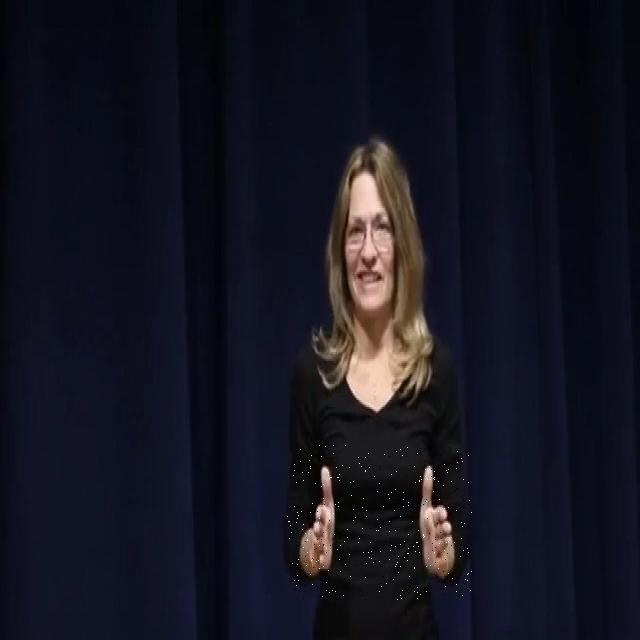manager: (286, 445, 472, 600)
